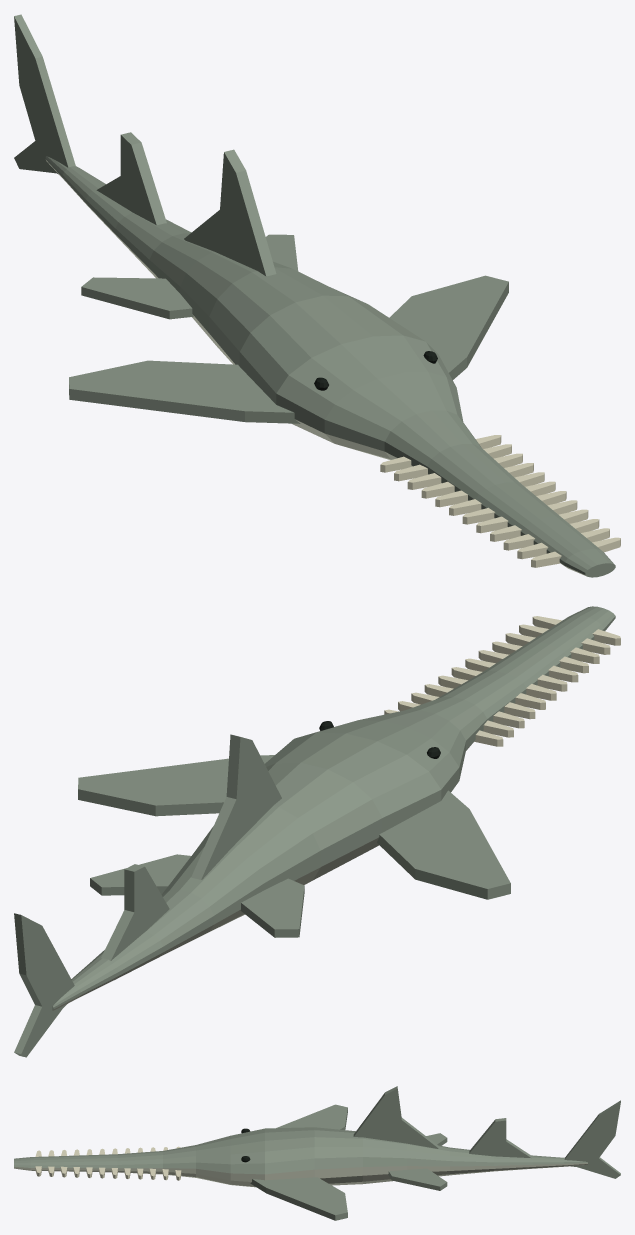
The picture shows the model from 3 angles, top to bottom: view 1: azimuth 30°, elevation 25°; view 2: azimuth 150°, elevation 25°; view 3: azimuth 270°, elevation 25°; orthographic projection. The views are drawn at different scales.
Parts seen in each view (by area): view 1: WholeFlatRostrumWedgeHeadTrunkAndLongTail, WholeSweptPectoralFin0, WholeSweptPectoralFin1, WholeUnequalErectDorsalFin0, WholeAsymmetricVerticalCaudalFin, WholeSweptPelvicFin0, WholeUnequalErectDorsalFin1, WholeSweptPelvicFin1; view 2: WholeFlatRostrumWedgeHeadTrunkAndLongTail, WholeSweptPectoralFin0, WholeSweptPectoralFin1, WholeUnequalErectDorsalFin0, WholeAsymmetricVerticalCaudalFin, WholeUnequalErectDorsalFin1, WholeSweptPelvicFin0, WholeSweptPelvicFin1; view 3: WholeFlatRostrumWedgeHeadTrunkAndLongTail, WholeSweptPectoralFin1, WholeUnequalErectDorsalFin0, WholeAsymmetricVerticalCaudalFin, WholeUnequalErectDorsalFin1, WholeSweptPectoralFin0, WholeSweptPelvicFin1.
Boxes of the visible parts, x1=… form: WholeFlatRostrumWedgeHeadTrunkAndLongTail: x1=45, y1=156, x2=615, y2=577; WholeSweptPectoralFin0: x1=69, y1=360, x2=300, y2=423; WholeSweptPectoralFin1: x1=389, y1=275, x2=508, y2=379; WholeUnequalErectDorsalFin0: x1=184, y1=149, x2=276, y2=276; WholeAsymmetricVerticalCaudalFin: x1=14, y1=14, x2=75, y2=174; WholeSweptPelvicFin0: x1=81, y1=277, x2=193, y2=319; WholeUnequalErectDorsalFin1: x1=96, y1=132, x2=166, y2=225; WholeSweptPelvicFin1: x1=265, y1=234, x2=298, y2=270; WholeFlatRostrumWedgeHeadTrunkAndLongTail: x1=52, y1=606, x2=615, y2=1010; WholeSweptPectoralFin0: x1=377, y1=790, x2=510, y2=899; WholeSweptPectoralFin1: x1=78, y1=755, x2=274, y2=816; WholeUnequalErectDorsalFin0: x1=191, y1=734, x2=281, y2=879; WholeAsymmetricVerticalCaudalFin: x1=14, y1=913, x2=74, y2=1057; WholeUnequalErectDorsalFin1: x1=101, y1=864, x2=169, y2=960; WholeSweptPelvicFin0: x1=240, y1=878, x2=304, y2=937; WholeSweptPelvicFin1: x1=90, y1=854, x2=190, y2=895; WholeFlatRostrumWedgeHeadTrunkAndLongTail: x1=14, y1=1127, x2=587, y2=1187; WholeSweptPectoralFin1: x1=250, y1=1177, x2=347, y2=1220; WholeUnequalErectDorsalFin0: x1=353, y1=1086, x2=438, y2=1148; WholeAsymmetricVerticalCaudalFin: x1=564, y1=1100, x2=620, y2=1178; WholeUnequalErectDorsalFin1: x1=469, y1=1118, x2=531, y2=1157; WholeSweptPectoralFin0: x1=276, y1=1104, x2=347, y2=1129; WholeSweptPelvicFin1: x1=388, y1=1168, x2=447, y2=1190.
Bounding box in the file's own units: 1.9 × 0.74 × 4.4.
